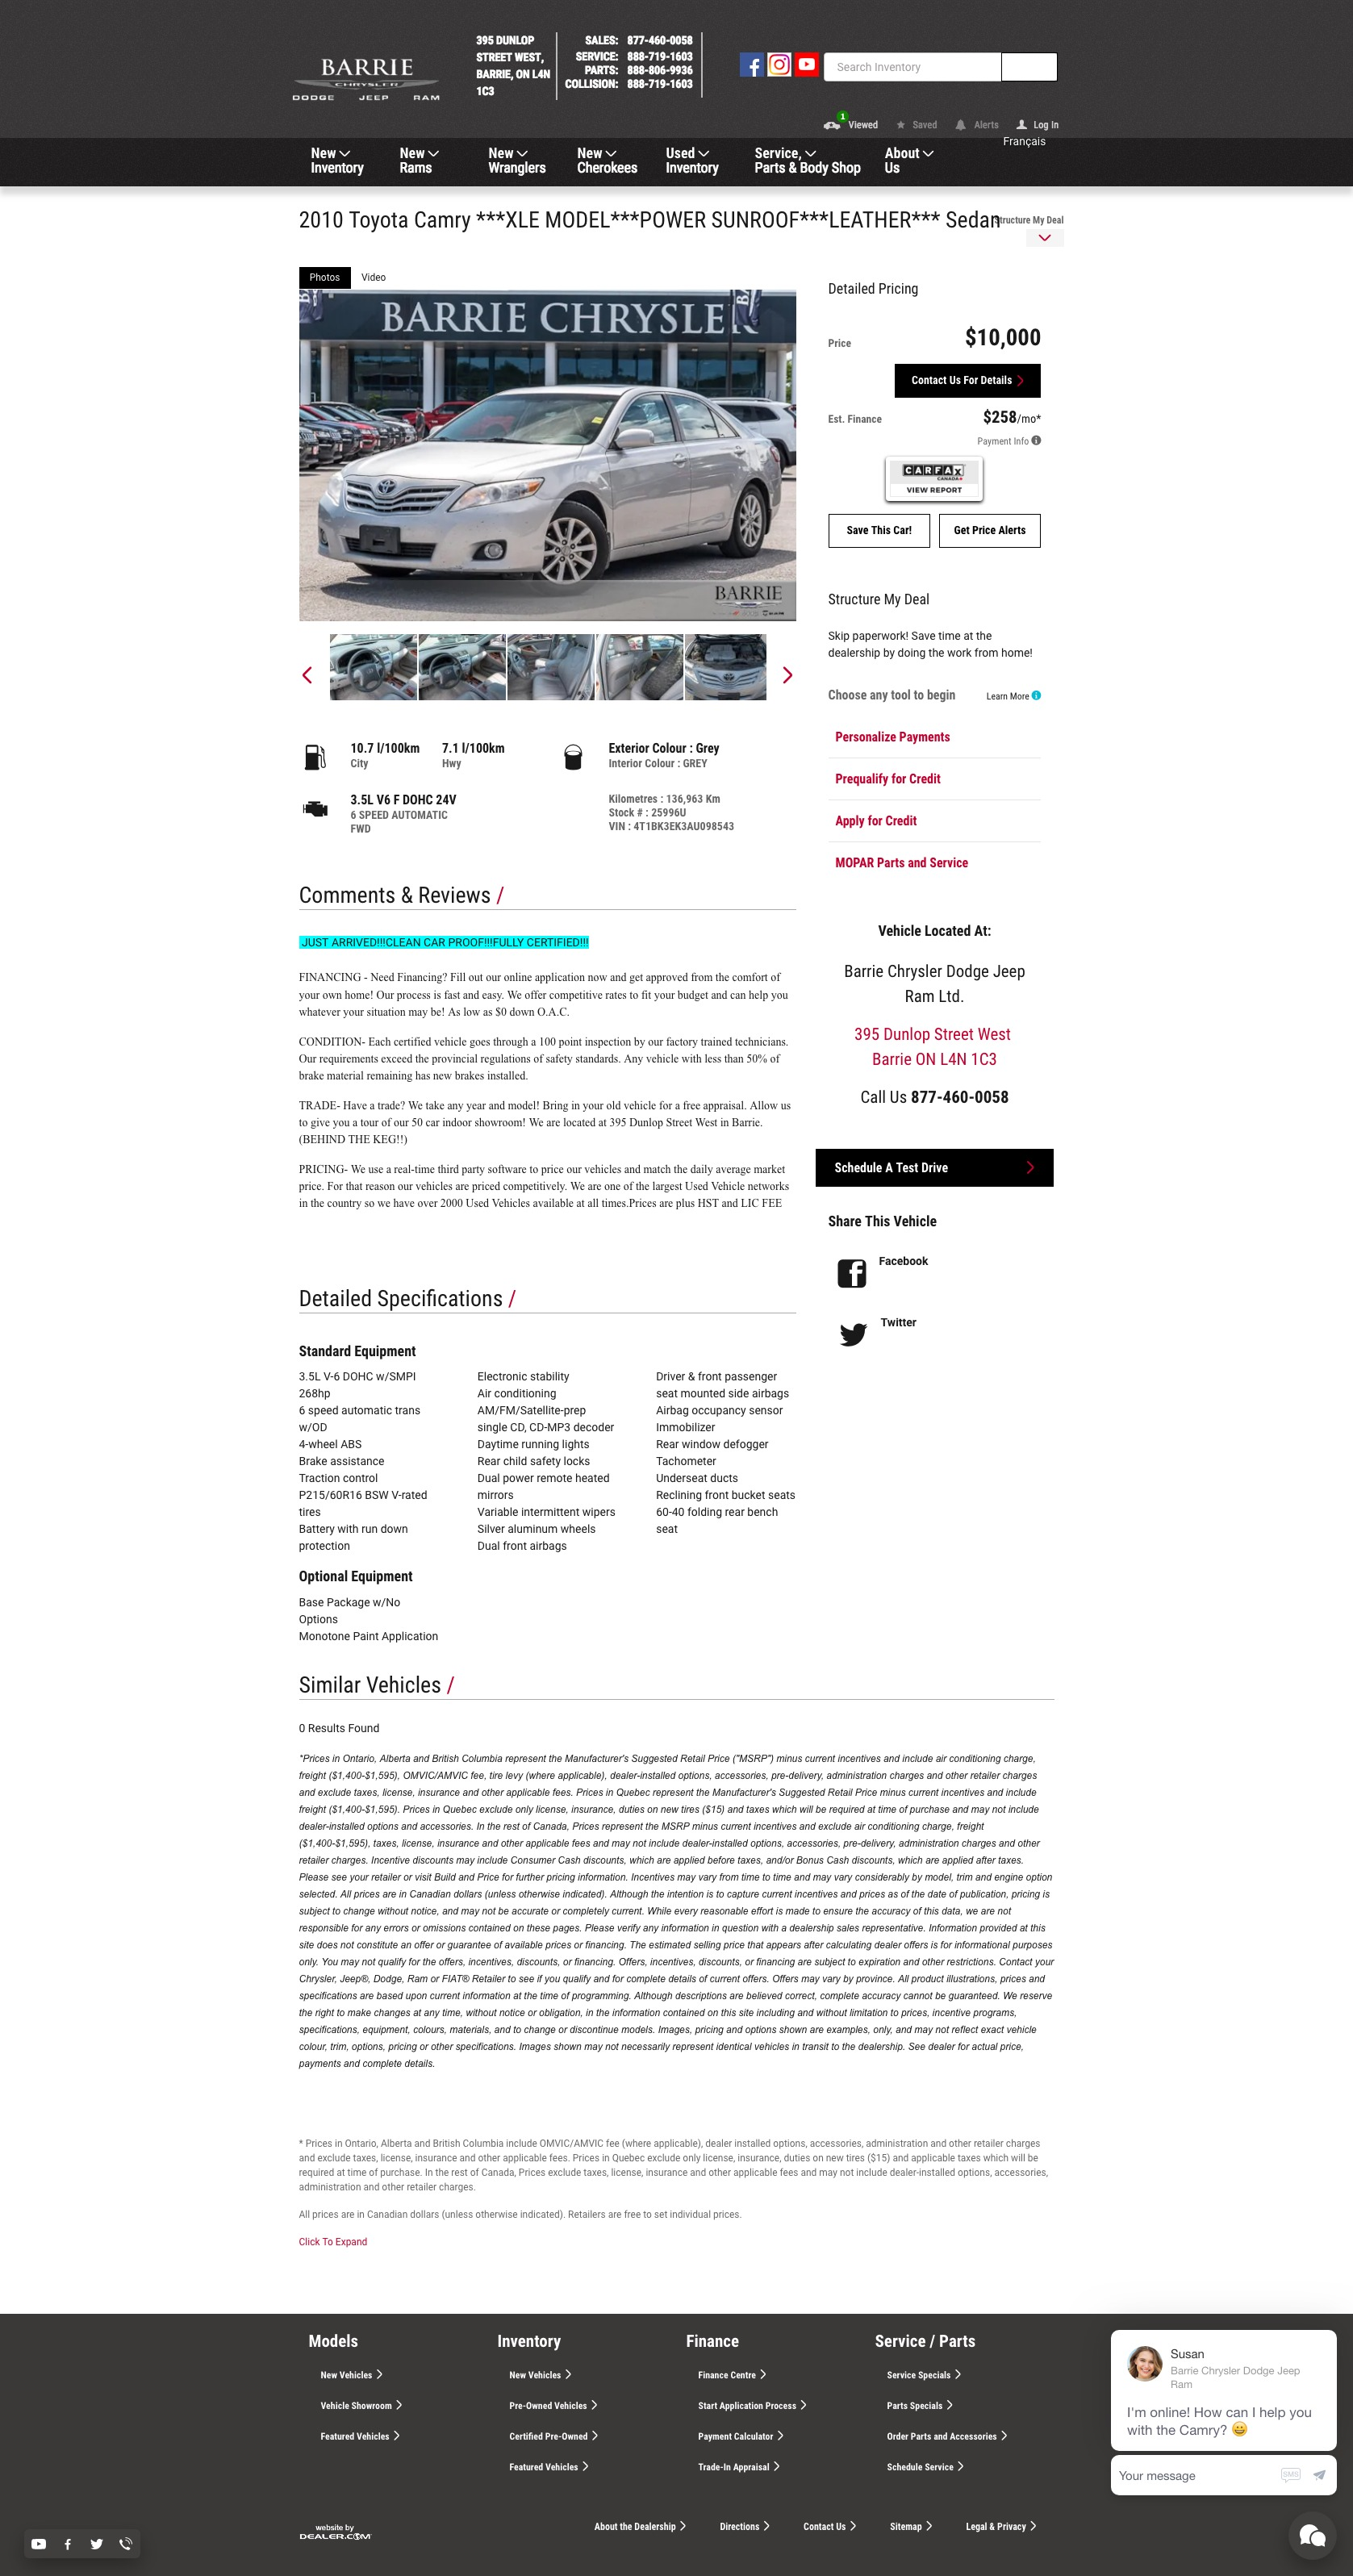car: (782, 668, 792, 685)
